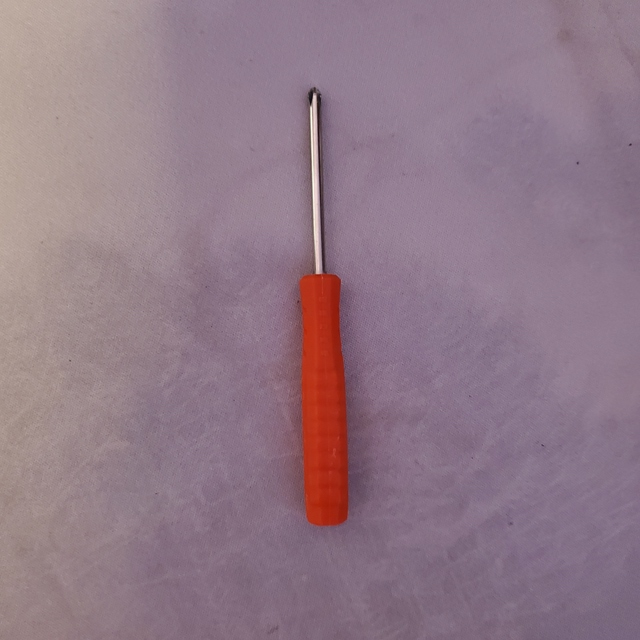screwdriver: (282, 92, 356, 543)
